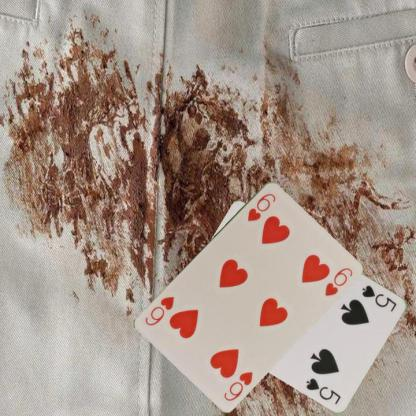5s: (359, 282, 398, 313)
6h: (244, 190, 278, 223), (221, 368, 254, 402)
